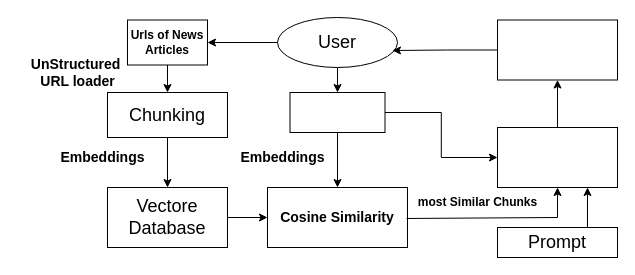
This 635x275 diagram has some shape labels left out. The centre of each missing label's shape, as x and y in pixels:
"LLM" goes at point 557,157.
"Query" goes at point 337,112.
"Result" goes at point 557,49.
